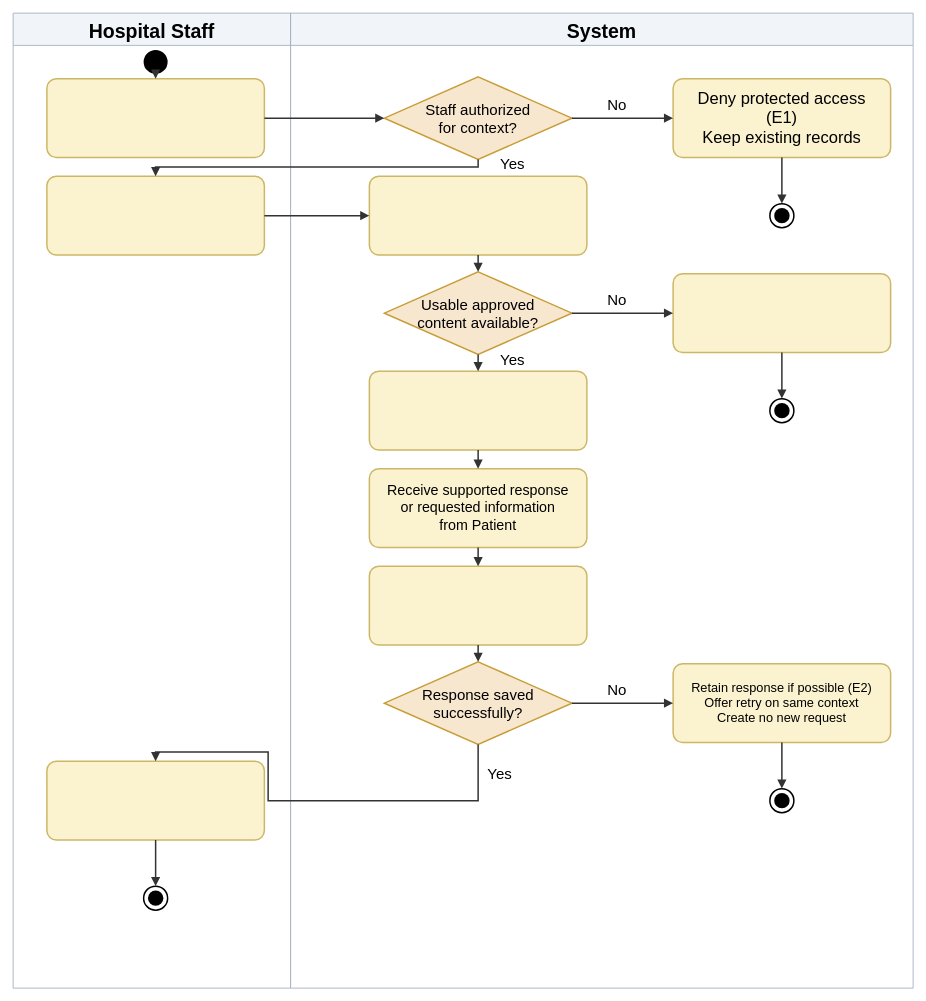
This 926x1001 diagram has some shape labels left out. The shapes that lost their labels are listed below. From the top down, each one's centre as x and y in pixels, then its label:
(x=155, y=118): Open permitted request or Visit context
(x=155, y=215): Select a published communication template
(x=477, y=215): Resolve approved language or labelled fallback
(x=781, y=313): Show available source (A3) Offer human language support if needed (A2)
(x=477, y=410): Present approved instruction to Patient; optional UC05
(x=477, y=605): Save response against the same request/context
(x=155, y=800): Review attached response Continue processing
